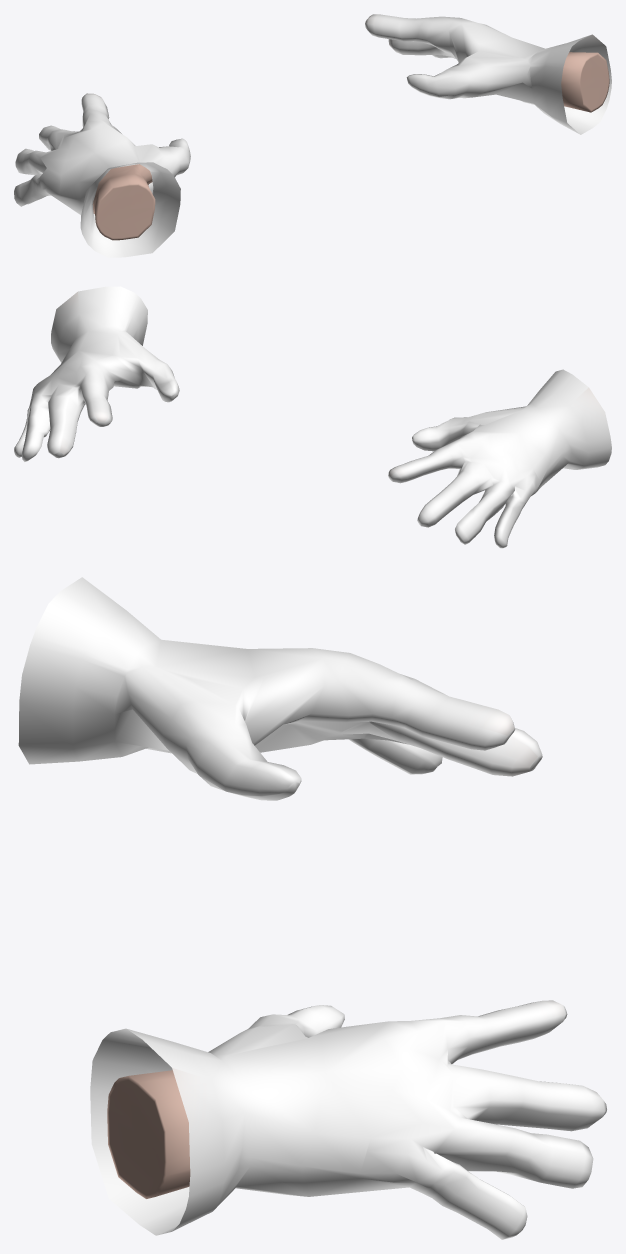
File: elcek.fbx
3 renders of one model, top to bottom at view 1: azimuth 30°, elevation 25°; view 2: azimuth 150°, elevation 25°; view 3: azimuth 270°, elevation 25°, orthographic. The views are drawn at different scales.
Visible parts, largest first — view 1: hand shef; view 2: hand shef; view 3: hand shef.
Boxes of the visible parts, x1,y1,x2,y2 form: hand shef: (14,14,611,257); hand shef: (14,286,611,548); hand shef: (18,577,606,1239).
Size of the model in its own units: 7.55 by 1.46 by 3.59.
Materials: 1 (1 with a texture image).
